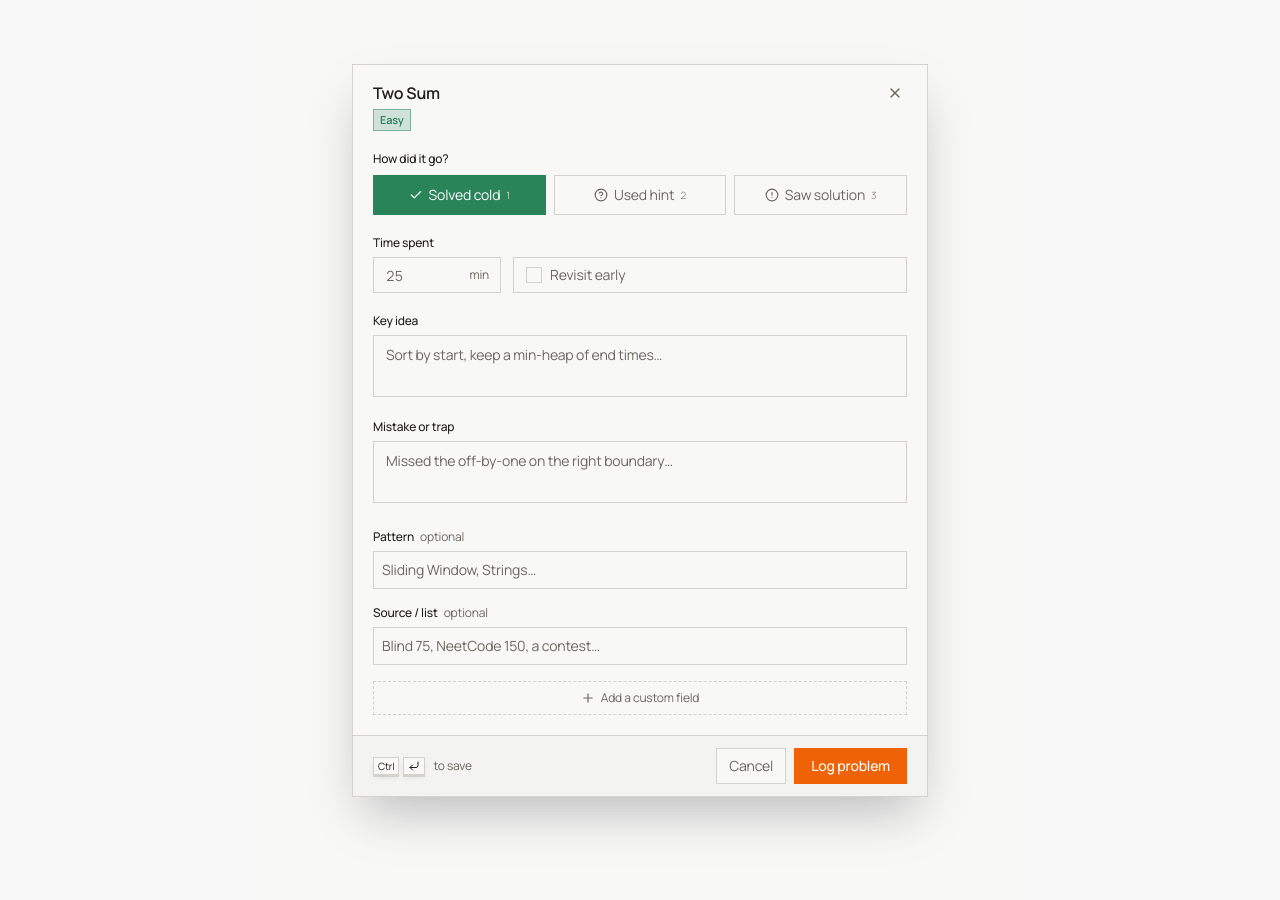
it: CommandBar › asks for minutes inline instead of an alert when a solve has none
Click the button "Log problem": (851, 766) [794,748,907,784]
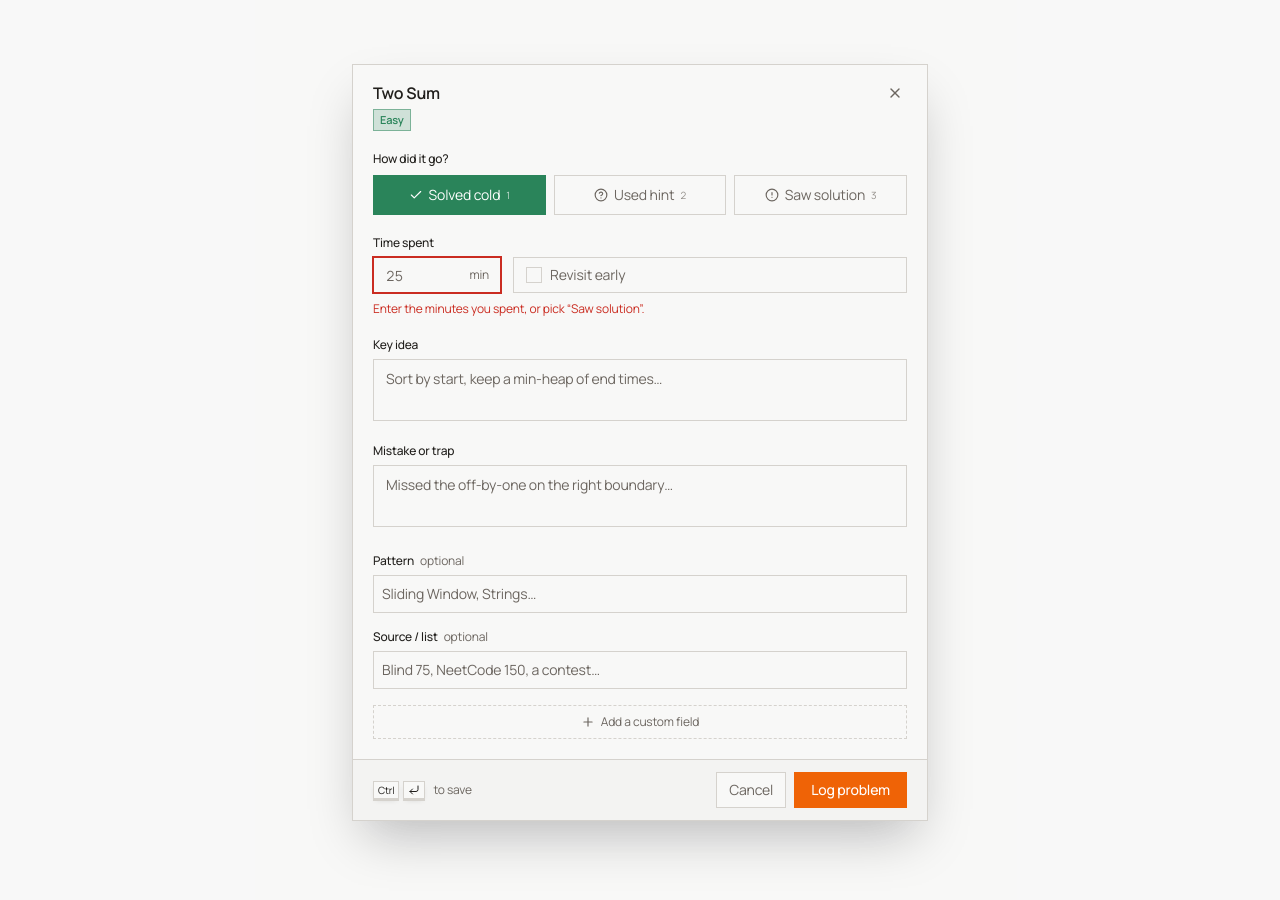
Expected: the message shows "minutes", [373,300,644,317]
